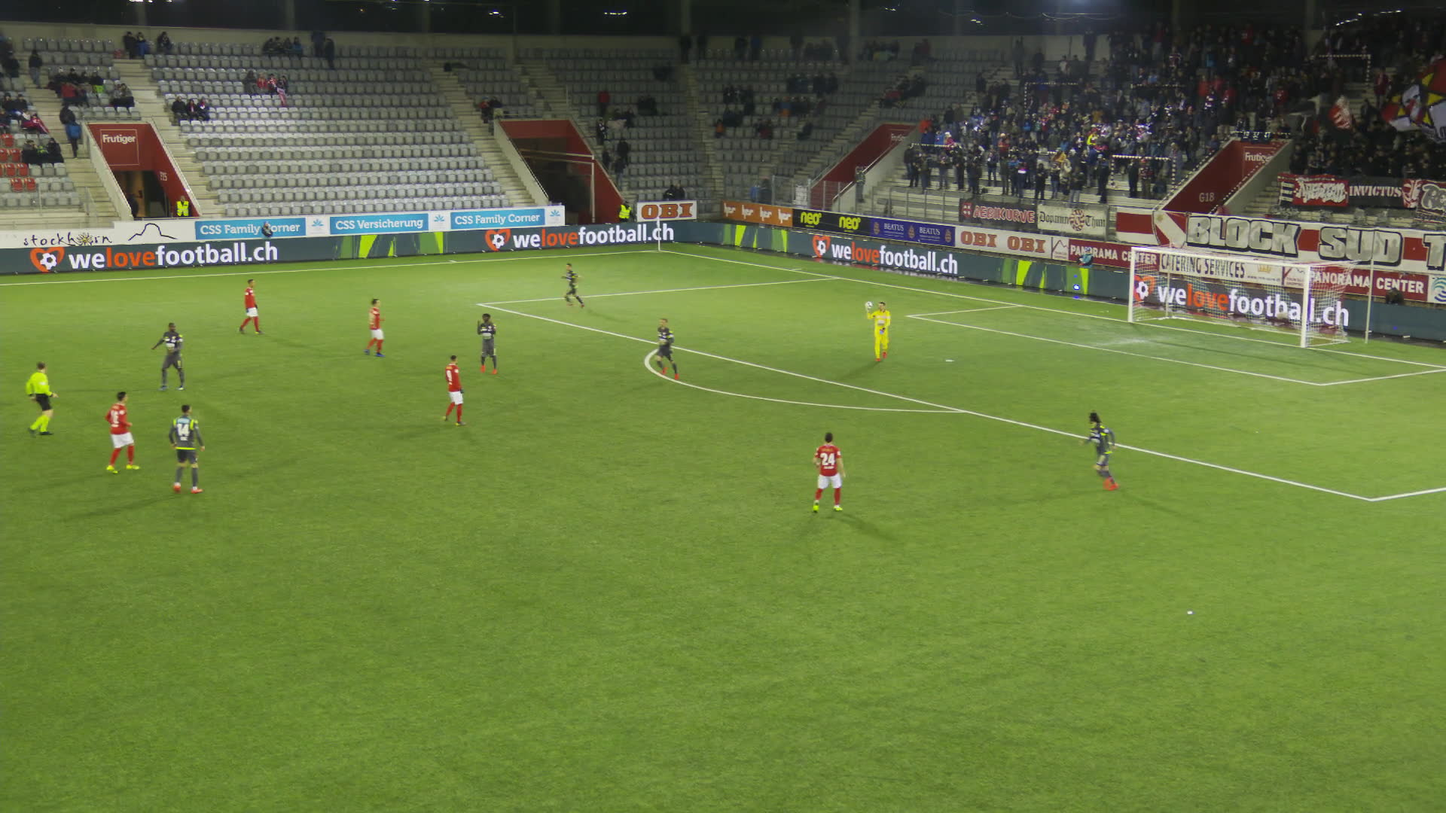ball: (865, 302, 875, 310)
player: (170, 405, 209, 493), (813, 430, 846, 511), (1086, 411, 1119, 489), (108, 390, 137, 470), (154, 321, 185, 388), (654, 317, 684, 379), (446, 355, 467, 425), (565, 263, 593, 309), (871, 300, 892, 360), (239, 279, 262, 333), (478, 315, 499, 374), (368, 299, 388, 358)
referee: (29, 364, 66, 437)
